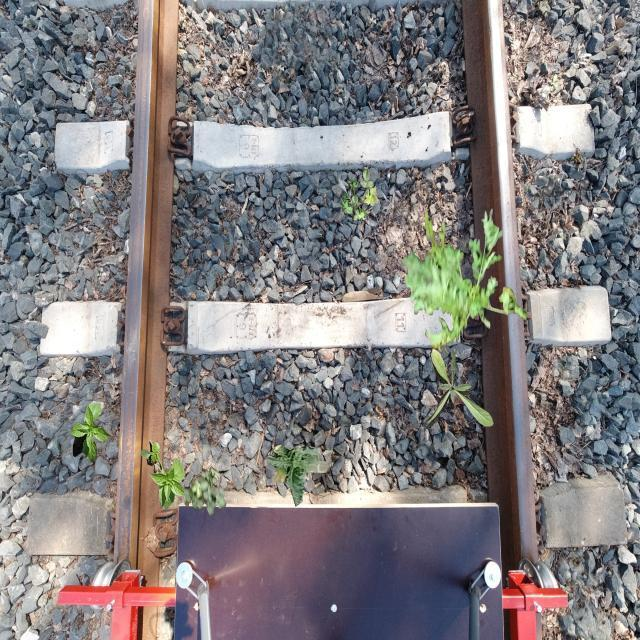Plant: (402, 208, 527, 355), (422, 348, 494, 429), (266, 445, 329, 507), (141, 439, 189, 510), (71, 403, 113, 463), (183, 466, 227, 516), (341, 169, 378, 224)
